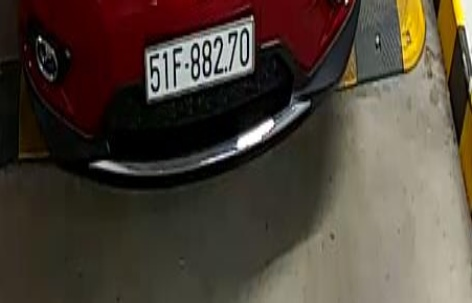plate: (140, 16, 257, 106)
